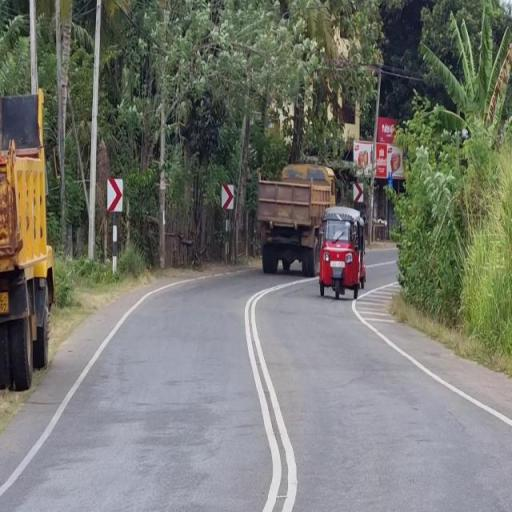double_white_line: (354, 298, 511, 429), (243, 282, 305, 510)
